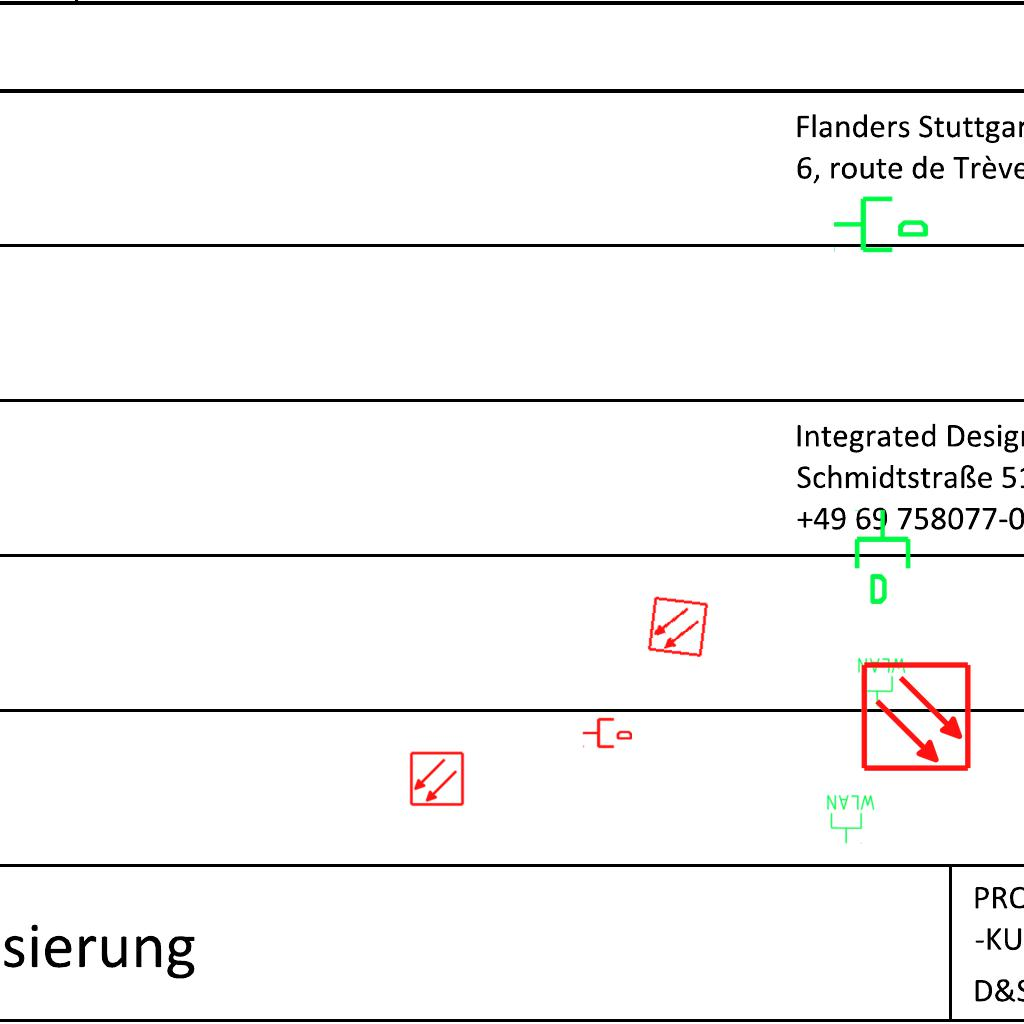Datenanschluss_einfach: (831, 188, 931, 257), (850, 507, 919, 607), (582, 716, 632, 750)
RMO_Rauchmelder_optischer: (860, 660, 973, 773), (646, 595, 710, 659), (409, 751, 465, 807)
WLAN: (825, 793, 877, 845), (856, 656, 908, 708)
